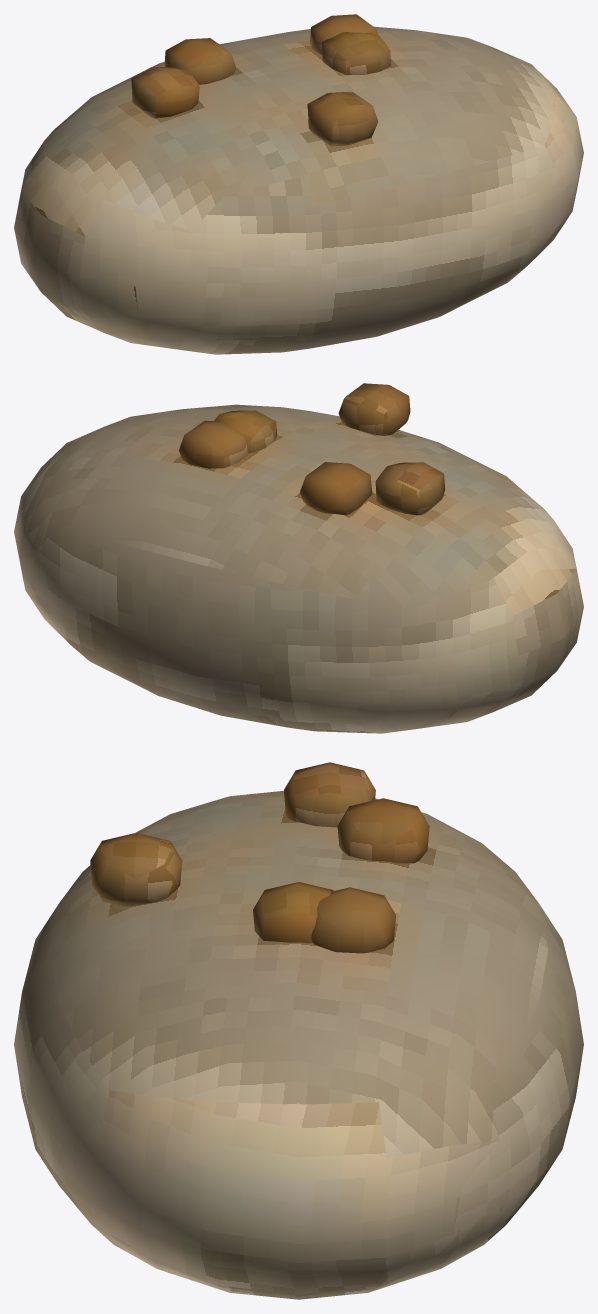
File: pellet_korokke.glb
The picture shows the model from 3 angles, top to bottom: view 1: azimuth 30°, elevation 25°; view 2: azimuth 150°, elevation 25°; view 3: azimuth 270°, elevation 25°; orthographic projection. The views are drawn at different scales.
Parts seen in each view (by area): view 1: prop_pellet_korokke_felt; view 2: prop_pellet_korokke_felt; view 3: prop_pellet_korokke_felt.
Part boxes in pixels (bbox=[...]): prop_pellet_korokke_felt: bbox=[14, 14, 583, 354]; prop_pellet_korokke_felt: bbox=[14, 383, 583, 733]; prop_pellet_korokke_felt: bbox=[14, 762, 583, 1299].
Size of the model in its own units: 0.084 by 0.0392 by 0.057.
Materials: 1 (1 with a texture image).
